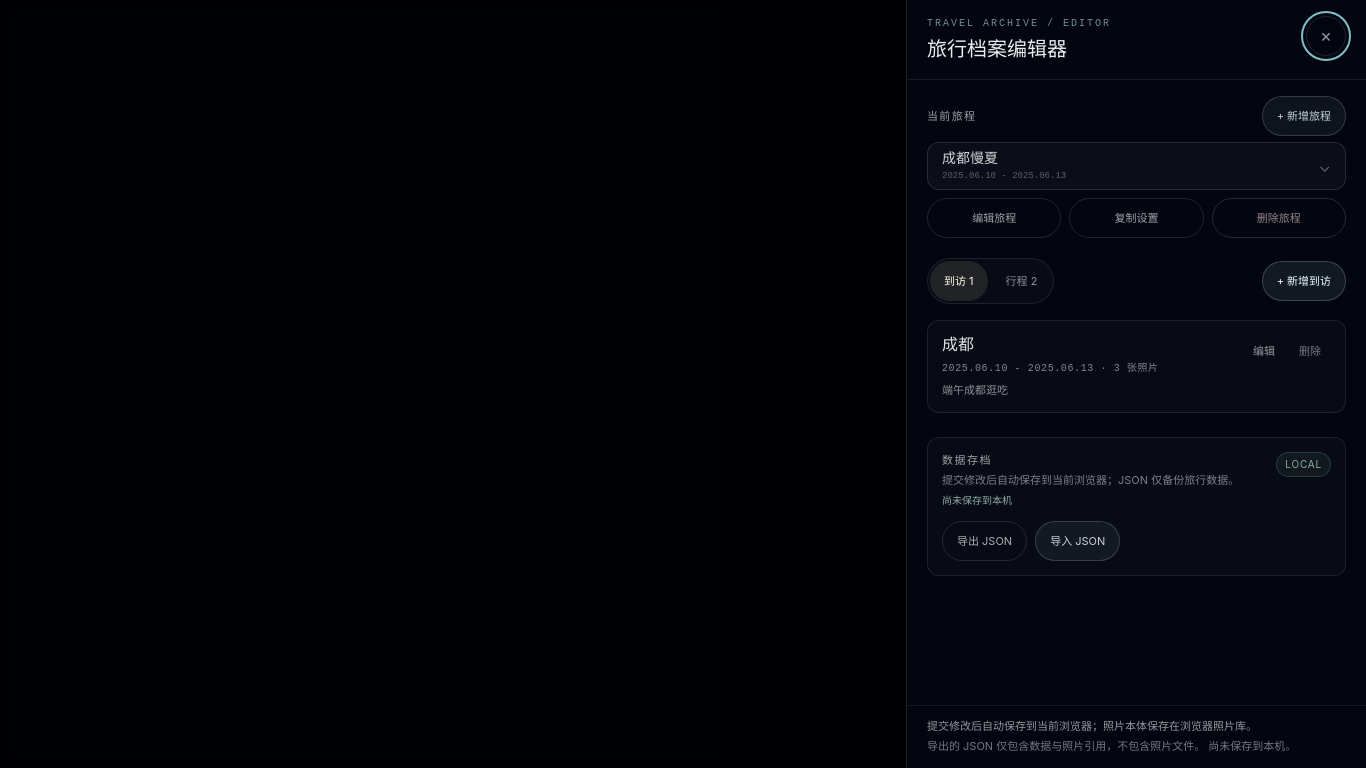
it: TravelEditor › duplicates the current journey settings
Click the button "复制设置" at (1136, 218), box [1069,198,1204,238]
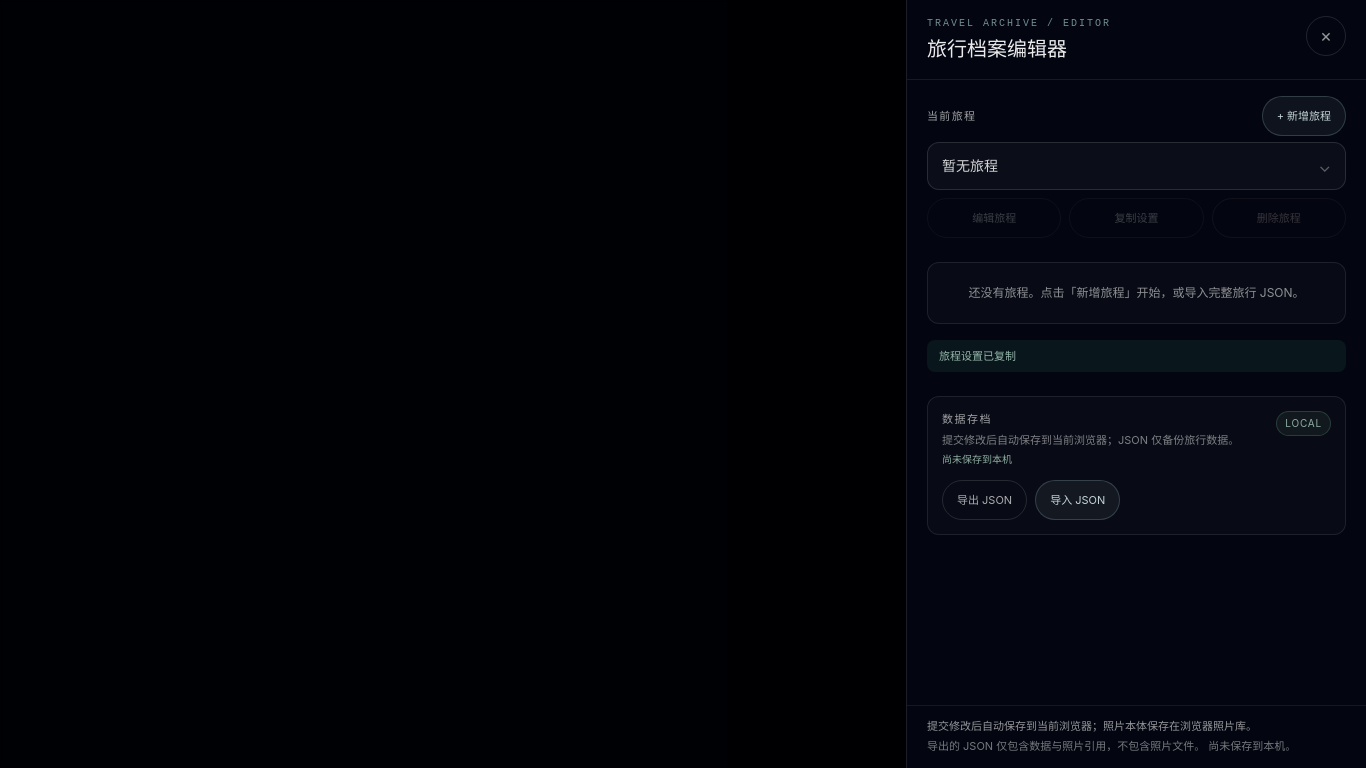
Result: the text "旅程设置已复制" is shown at [927,340,1346,372]
